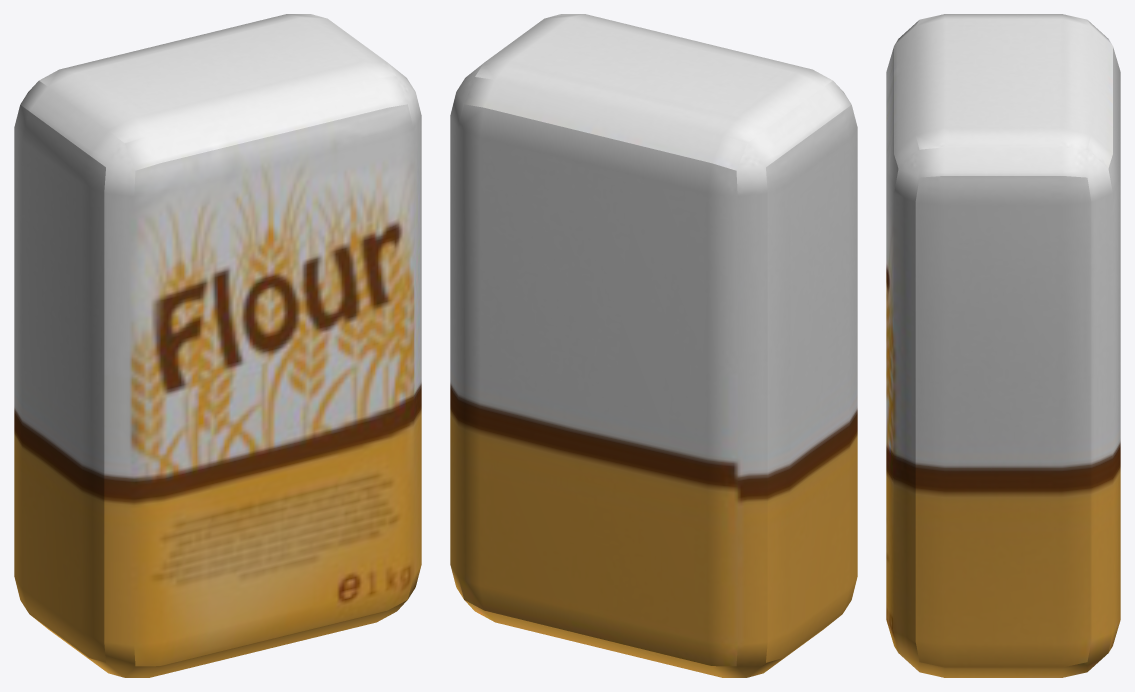
Rendered from flour.gltf.
The picture shows the model from 3 angles, left to right: view 1: azimuth 30°, elevation 25°; view 2: azimuth 150°, elevation 25°; view 3: azimuth 270°, elevation 25°; orthographic projection. The views are drawn at different scales.
Visible parts, largest first — view 1: Flour; view 2: Flour; view 3: Flour.
Boxes of the visible parts, x1,y1,x2,y2 form: Flour: [14, 14, 421, 677]; Flour: [450, 14, 857, 677]; Flour: [886, 14, 1120, 677].
Bounding box in the file's own units: 0.1297 × 0.2083 × 0.0813.
Materials: 1 (1 with a texture image).
